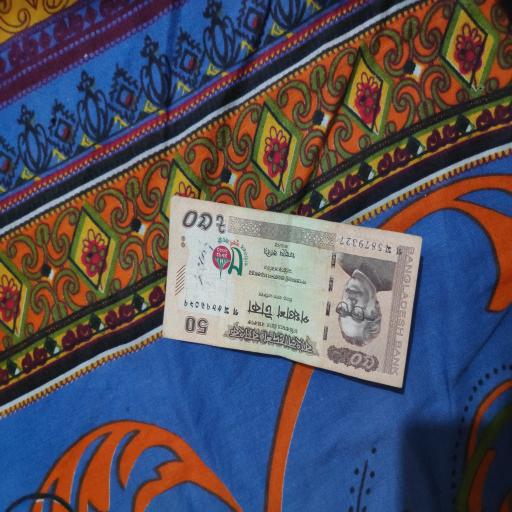50taka: (170, 198, 417, 392)
